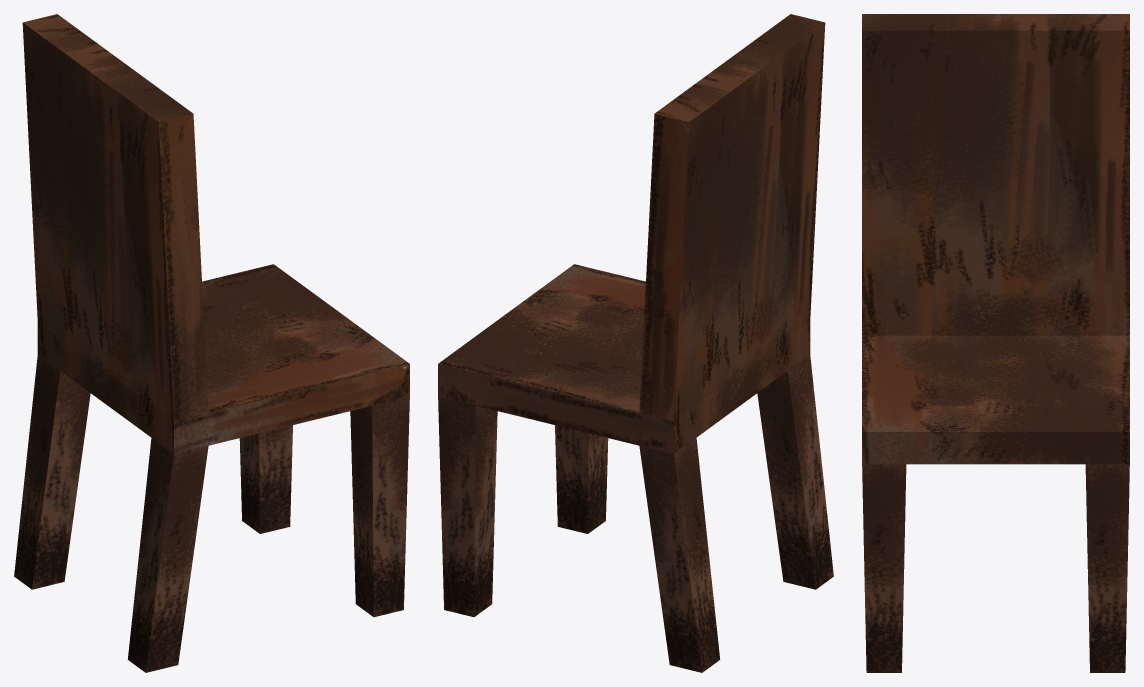
The model's file is Chair01.fbx.
3 renders of one model, left to right at view 1: azimuth 30°, elevation 25°; view 2: azimuth 150°, elevation 25°; view 3: azimuth 270°, elevation 25°, orthographic.
Parts seen in each view (by area): view 1: Chair01; view 2: Chair01; view 3: Chair01.
Part boxes in pixels (x1,y1,x2,y2): Chair01: (14, 14, 409, 672); Chair01: (438, 14, 833, 672); Chair01: (862, 14, 1129, 672).
Bounding box in the file's own units: 0.4541 × 0.911 × 0.4091.
1 material, 1 textured.
